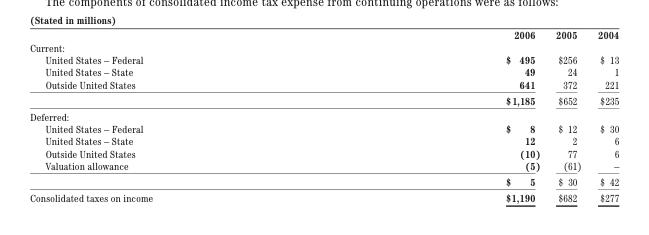table: (29, 28, 618, 203)
table column: (29, 28, 328, 203), (328, 28, 547, 203), (547, 28, 588, 203), (588, 28, 618, 203)
table column header: (29, 28, 618, 40)
table projected row header: (29, 108, 618, 122), (29, 40, 618, 53)
table row: (29, 91, 618, 108), (29, 173, 618, 189), (29, 77, 618, 91), (29, 108, 618, 122), (29, 159, 618, 173), (29, 189, 618, 203), (29, 40, 618, 53), (29, 146, 618, 159), (29, 28, 618, 40), (29, 53, 618, 65), (29, 65, 618, 77), (29, 122, 618, 134), (29, 134, 618, 146)
